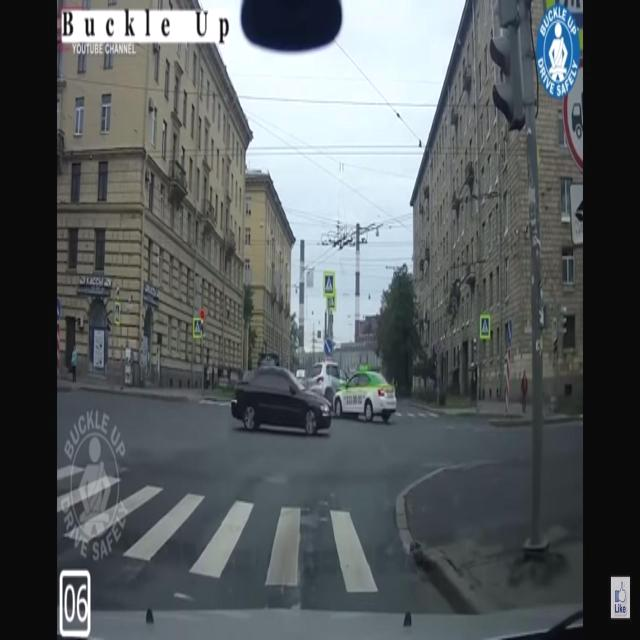accident: (304, 360, 396, 420)
